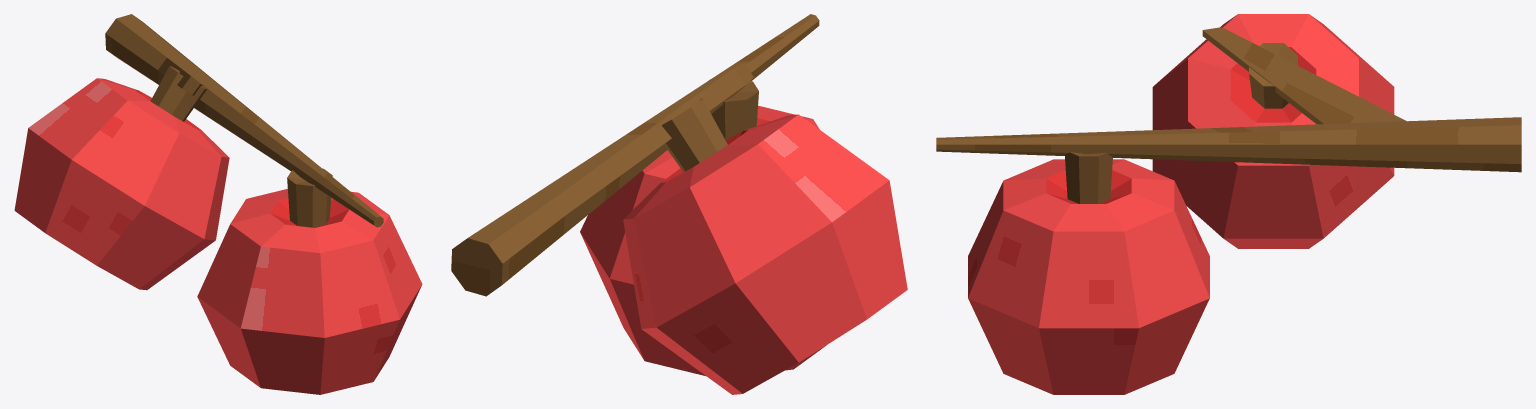
The model's file is Apples Model.fbx.
3 views of the same model, side by side, from view 1: azimuth 30°, elevation 25°; view 2: azimuth 150°, elevation 25°; view 3: azimuth 270°, elevation 25° (orthographic). The views are drawn at different scales.
Parts seen in each view (by area): view 1: sphere; view 2: sphere; view 3: sphere.
Boxes of the visible parts, box(x1,y1,x2,y2) form: sphere: box(14, 14, 422, 394); sphere: box(451, 14, 907, 394); sphere: box(936, 14, 1521, 394).
Size of the model in its own units: 95 by 80.53 by 144.
1 material, 1 textured.
